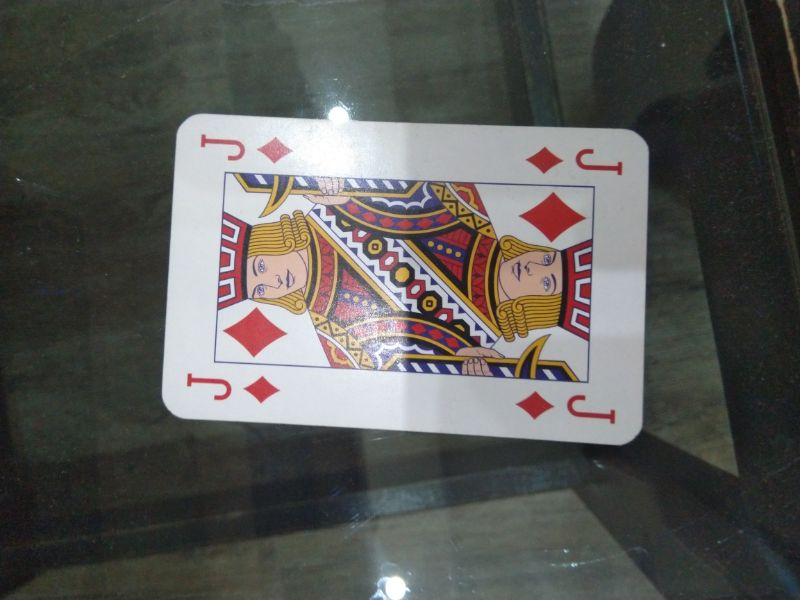Jd: (514, 384, 621, 428), (196, 123, 296, 168), (525, 142, 629, 183), (184, 367, 280, 408)
